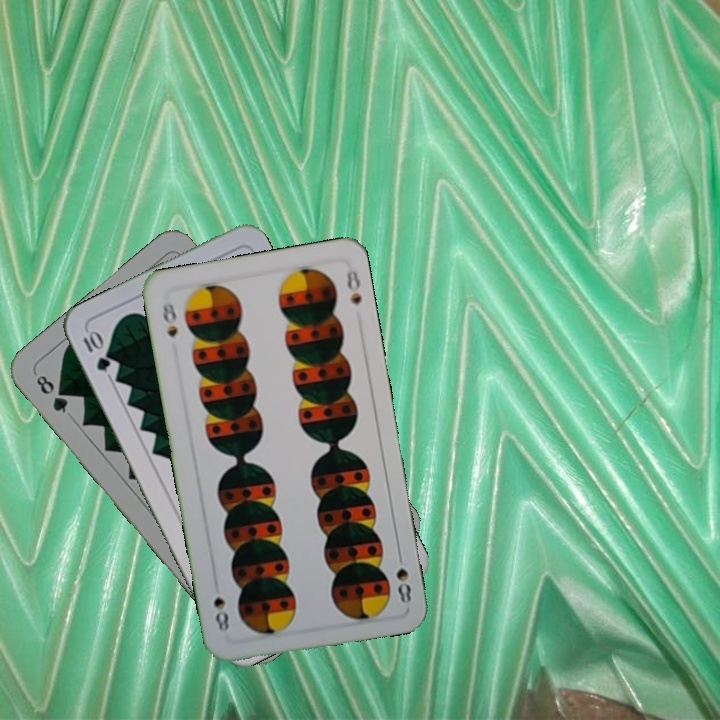G10: (78, 326, 113, 374)
G8: (32, 369, 71, 416)
S8: (392, 547, 414, 606), (158, 299, 180, 341)
